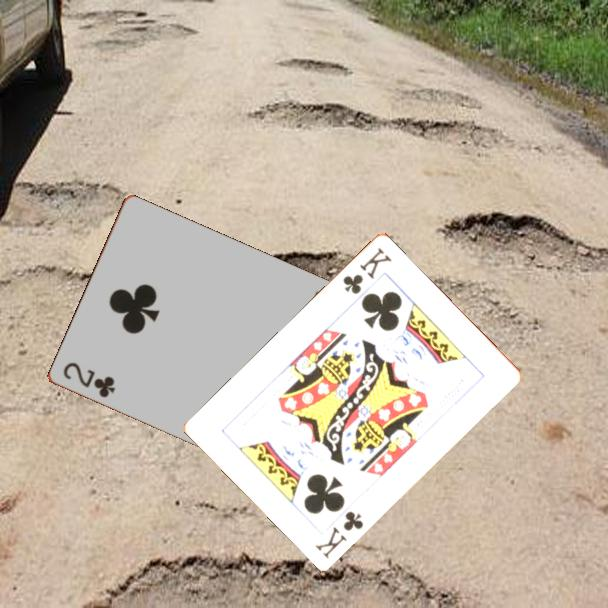c02: (59, 359, 118, 401)
c13: (339, 243, 395, 297), (312, 507, 367, 561)
